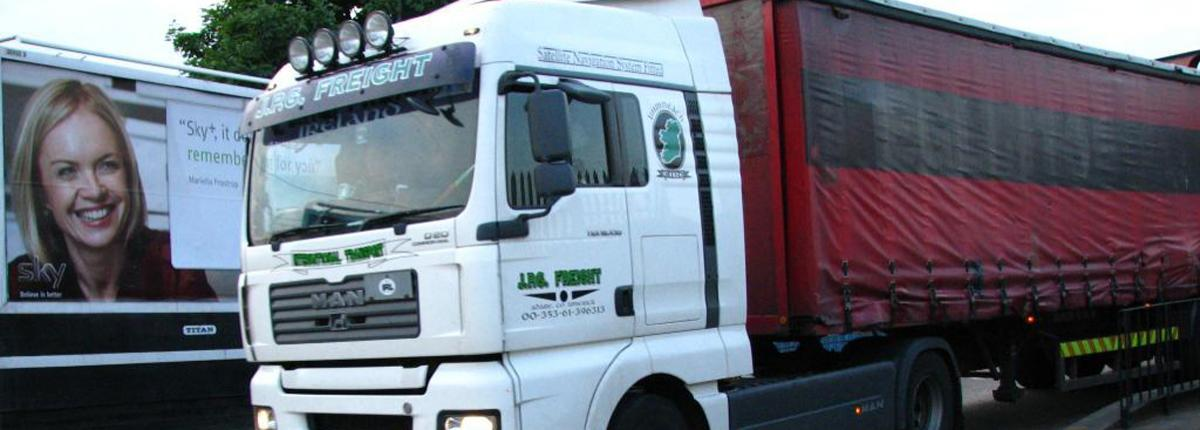truck: (237, 1, 1200, 430)
